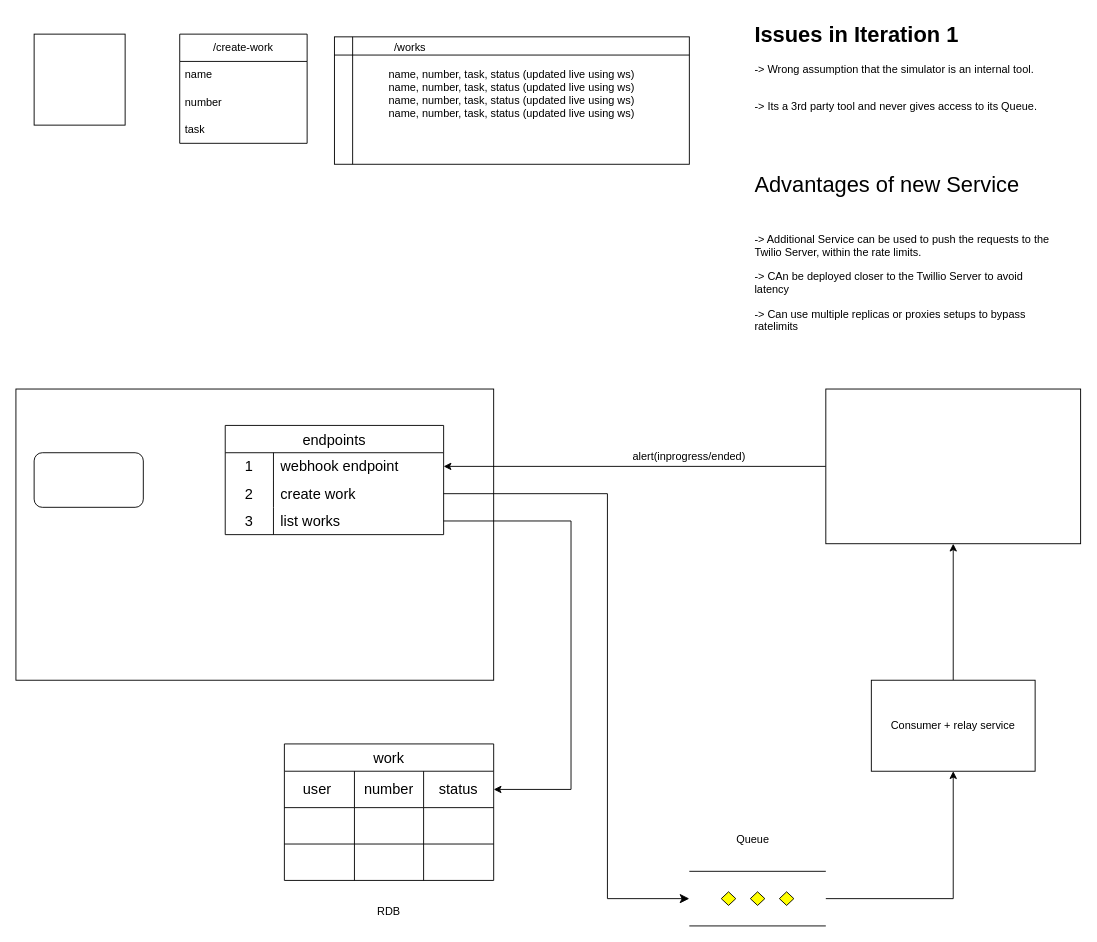
The diagram is 1097 pixels wide and 942 high, and some of its shapes have lost their labels. The shapes that lost their labels are listed below. From the top down, each one's centre as x and y in pixels, then its label:
point 79,79: Client
point 88,479: Websockets
point 953,466: twilio Simulator
